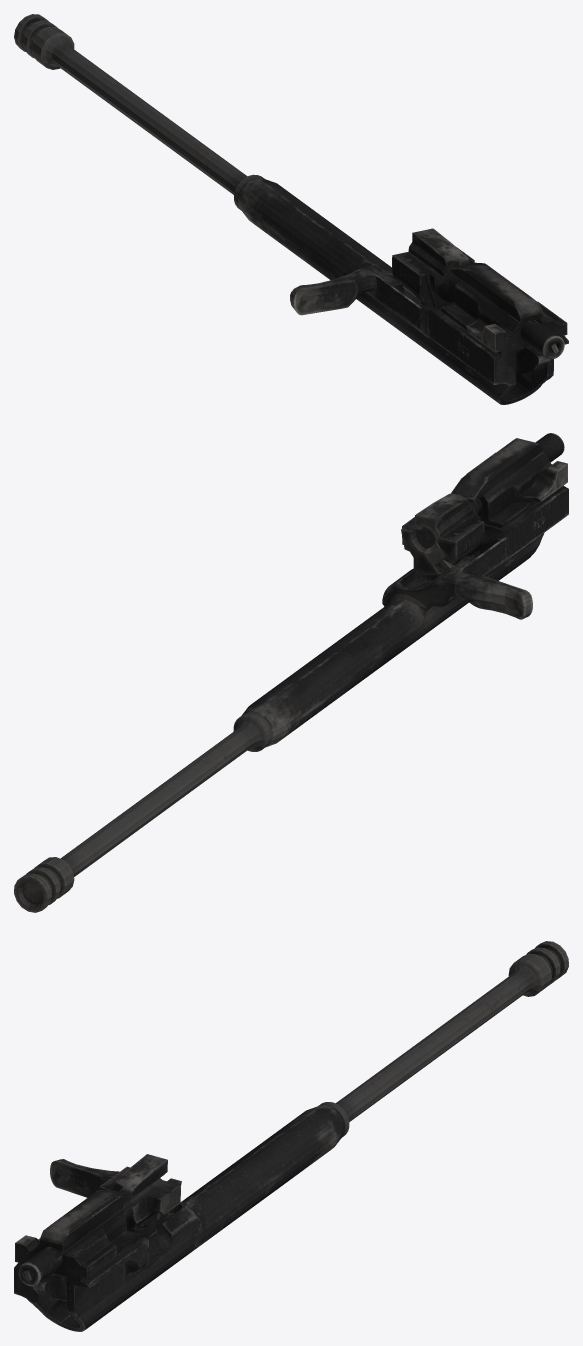
The picture shows the model from 3 angles, top to bottom: view 1: azimuth 30°, elevation 25°; view 2: azimuth 150°, elevation 25°; view 3: azimuth 330°, elevation 25°; orthographic projection.
Parts seen in each view (by area): view 1: TW_5ac66cb05acfc40198510a10_PZ_Import; view 2: TW_5ac66cb05acfc40198510a10_PZ_Import; view 3: TW_5ac66cb05acfc40198510a10_PZ_Import.
Part boxes in pixels (left/top/right/bottom): TW_5ac66cb05acfc40198510a10_PZ_Import: left=14, top=14, right=568, bottom=404; TW_5ac66cb05acfc40198510a10_PZ_Import: left=14, top=433, right=568, bottom=912; TW_5ac66cb05acfc40198510a10_PZ_Import: left=14, top=941, right=568, bottom=1331.
Bounding box in the file's own units: 0.0358 × 0.2073 × 0.0249.
Materials: 1 (1 with a texture image).
